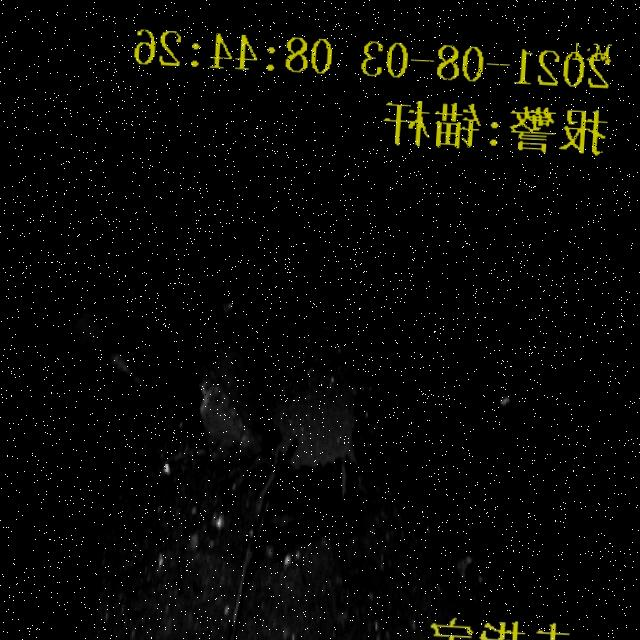bolt: (231, 255, 373, 636)
large_sized_coal: (192, 321, 260, 462), (396, 296, 463, 388)
